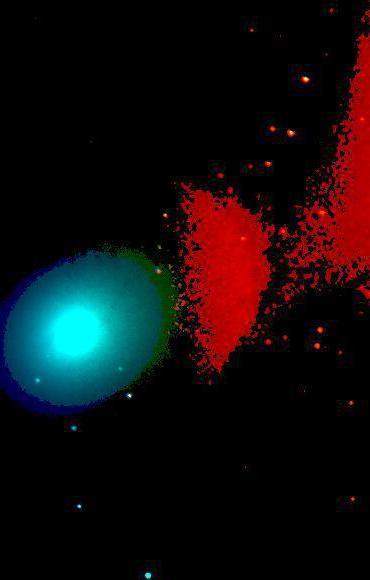star: (236, 155, 266, 185)
